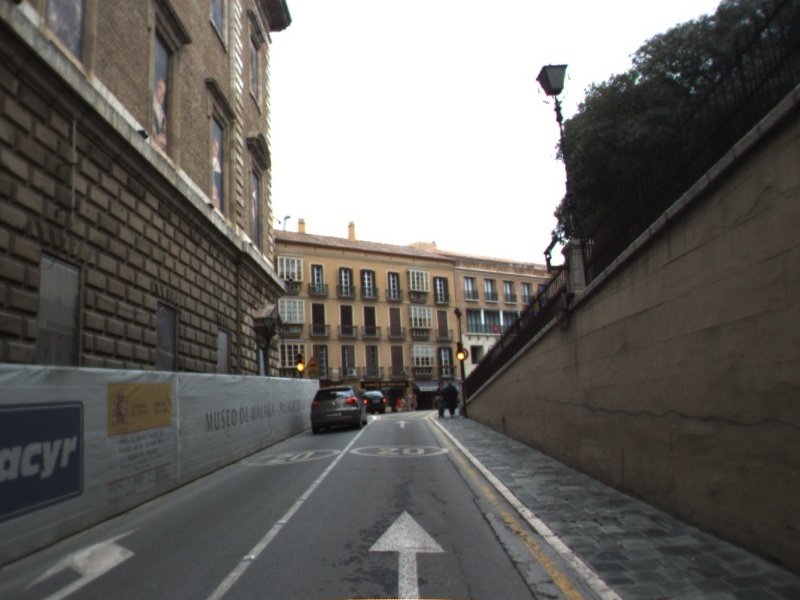LEFT: (17, 522, 148, 600)
STRAIGHT: (363, 506, 449, 600), (394, 418, 412, 430)
